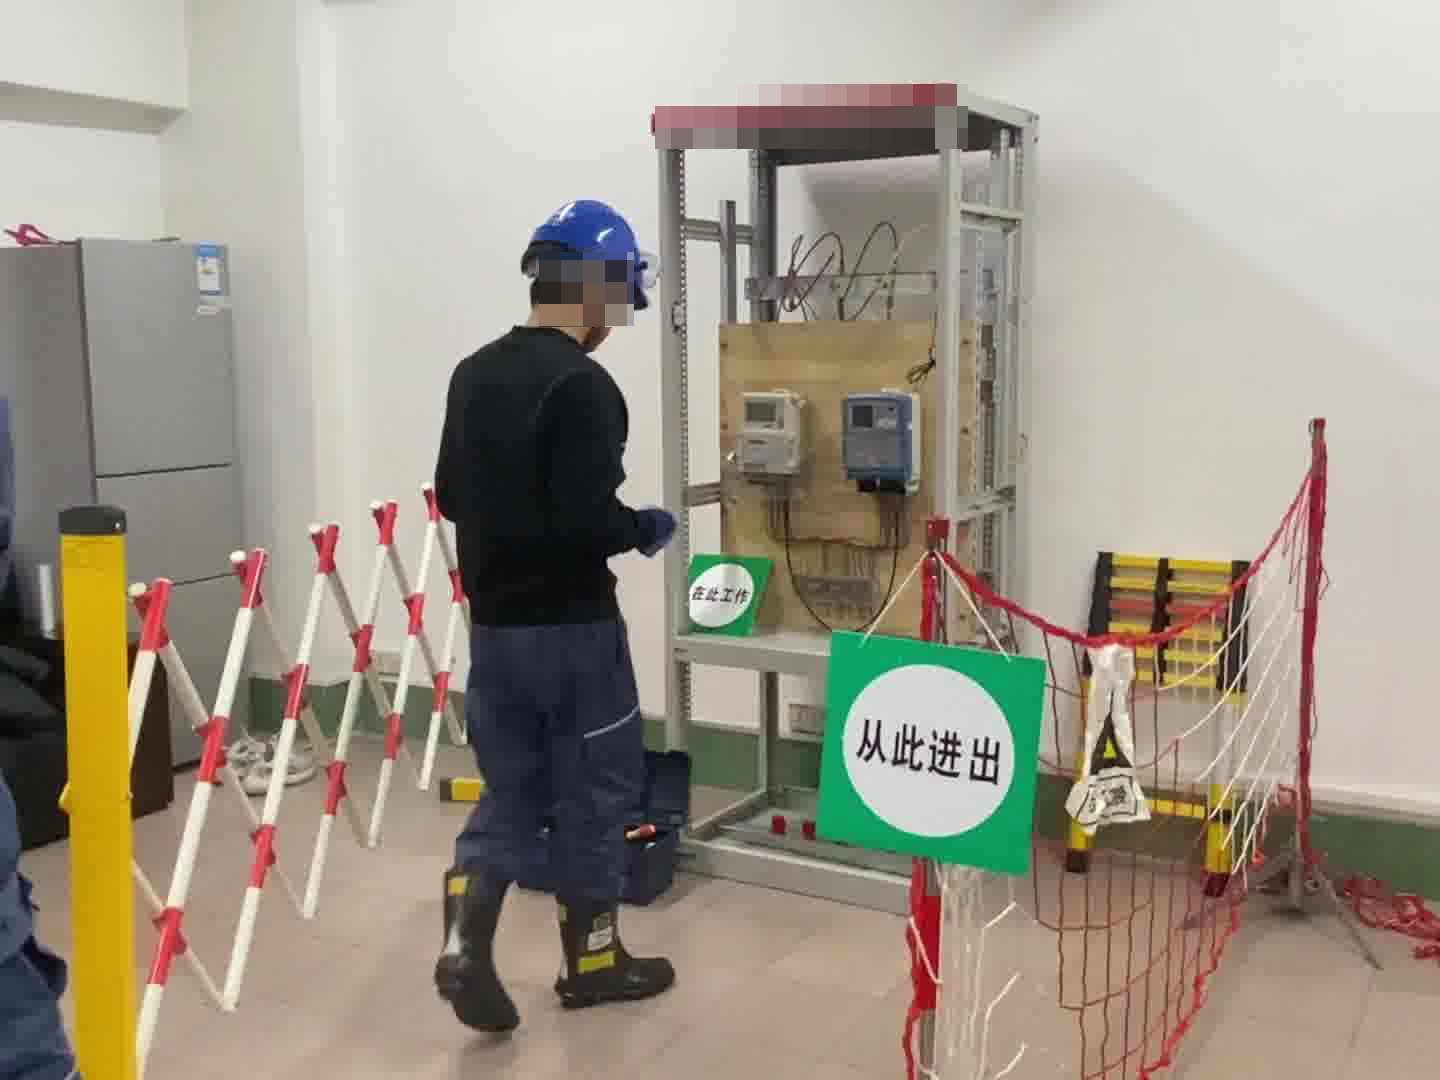downsuit: (455, 635, 650, 889)
glove: (637, 507, 677, 561)
halt: (520, 197, 649, 347)
inear: (578, 255, 624, 336)
intosign: (815, 633, 1049, 875)
person: (420, 194, 695, 1031)
shoe: (430, 876, 523, 1030), (548, 902, 674, 1002)
upcloth: (437, 329, 674, 616)
worksign: (678, 555, 778, 642)
